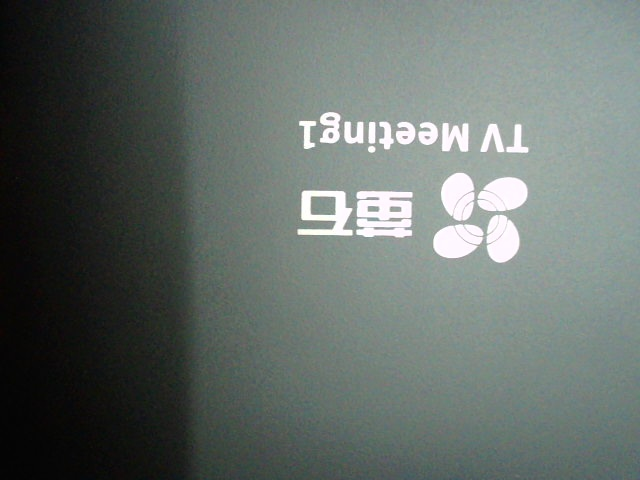BA_Yingshi: (295, 110, 532, 268)
